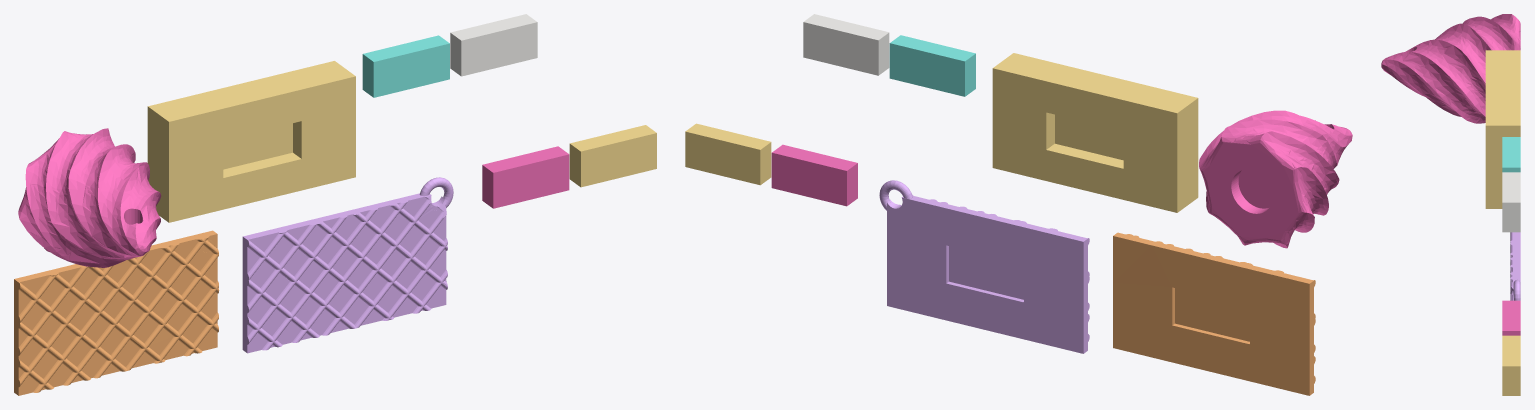
File: aretes-helados.glb
3 views of the same model, side by side, from view 1: azimuth 30°, elevation 25°; view 2: azimuth 150°, elevation 25°; view 3: azimuth 270°, elevation 25° (orthographic). The views are drawn at different scales.
Parts seen in each view (by area): view 1: 1_1; view 2: 1_1; view 3: 1_1.
Boxes of the visible parts, left/top/right/bottom form: 1_1: left=14, top=14, right=656, bottom=395; 1_1: left=685, top=14, right=1352, bottom=395; 1_1: left=1381, top=14, right=1520, bottom=395.
Size of the model in its own units: 75.53 by 30.48 by 17.52.
Materials: 1 (1 with a texture image).
